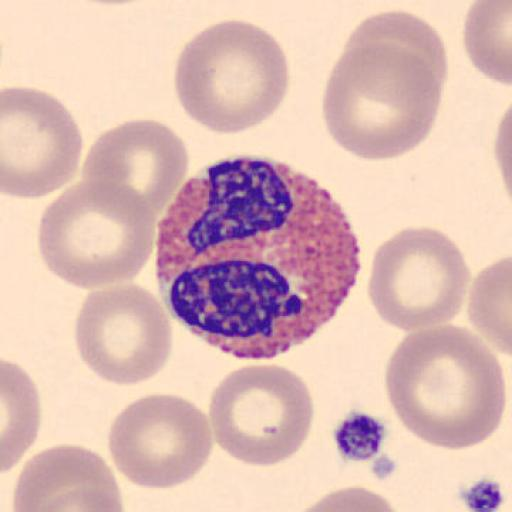Platelet: (329, 408, 389, 464)
RBC: (383, 322, 507, 454), (319, 42, 443, 162), (173, 18, 291, 136), (35, 178, 158, 290), (207, 361, 315, 468), (80, 117, 190, 222), (367, 226, 471, 336), (106, 392, 214, 492), (73, 282, 174, 388), (2, 85, 85, 200), (344, 8, 448, 92), (12, 443, 125, 512), (1, 358, 42, 474), (468, 254, 512, 361), (462, 0, 512, 87), (286, 485, 404, 512), (26, 482, 124, 512), (492, 97, 512, 210), (493, 108, 512, 204)
WBC: (157, 155, 365, 360)
